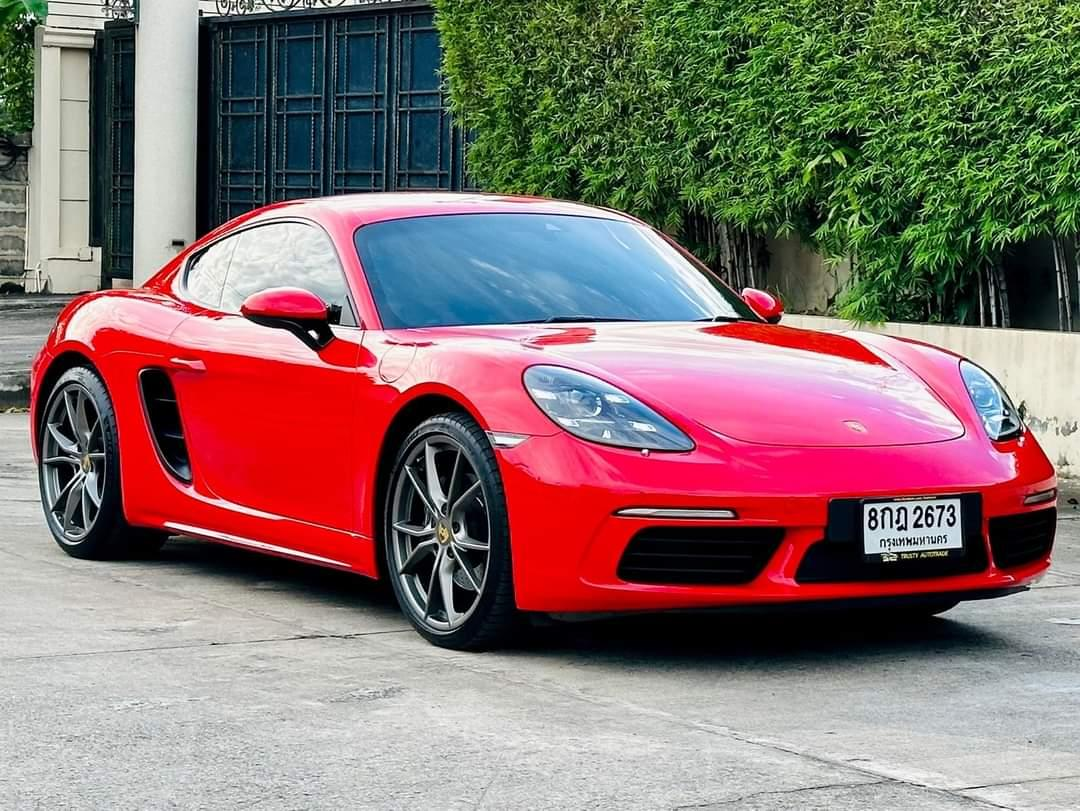license-plate: (854, 493, 971, 567)
